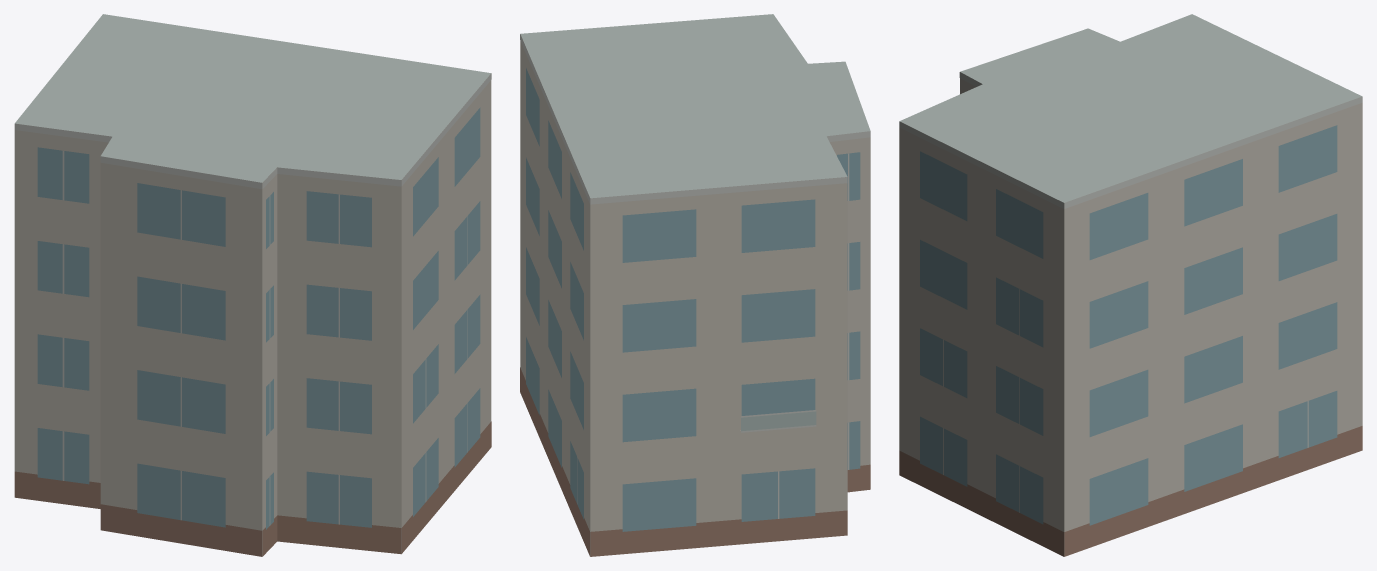
The model's file is survey-upis-32745490.glb.
The picture shows the model from 3 angles, left to right: view 1: azimuth 30°, elevation 25°; view 2: azimuth 150°, elevation 25°; view 3: azimuth 270°, elevation 25°; orthographic projection. The views are drawn at different scales.
Parts seen in each view (by area): view 1: survey-upis-32745490.tmp; view 2: survey-upis-32745490.tmp; view 3: survey-upis-32745490.tmp.
Part boxes in pixels (bbox=[...]): survey-upis-32745490.tmp: bbox=[14, 14, 491, 556]; survey-upis-32745490.tmp: bbox=[520, 14, 870, 556]; survey-upis-32745490.tmp: bbox=[899, 14, 1362, 556].
Size of the model in its own units: 16.04 by 14 by 16.61.
